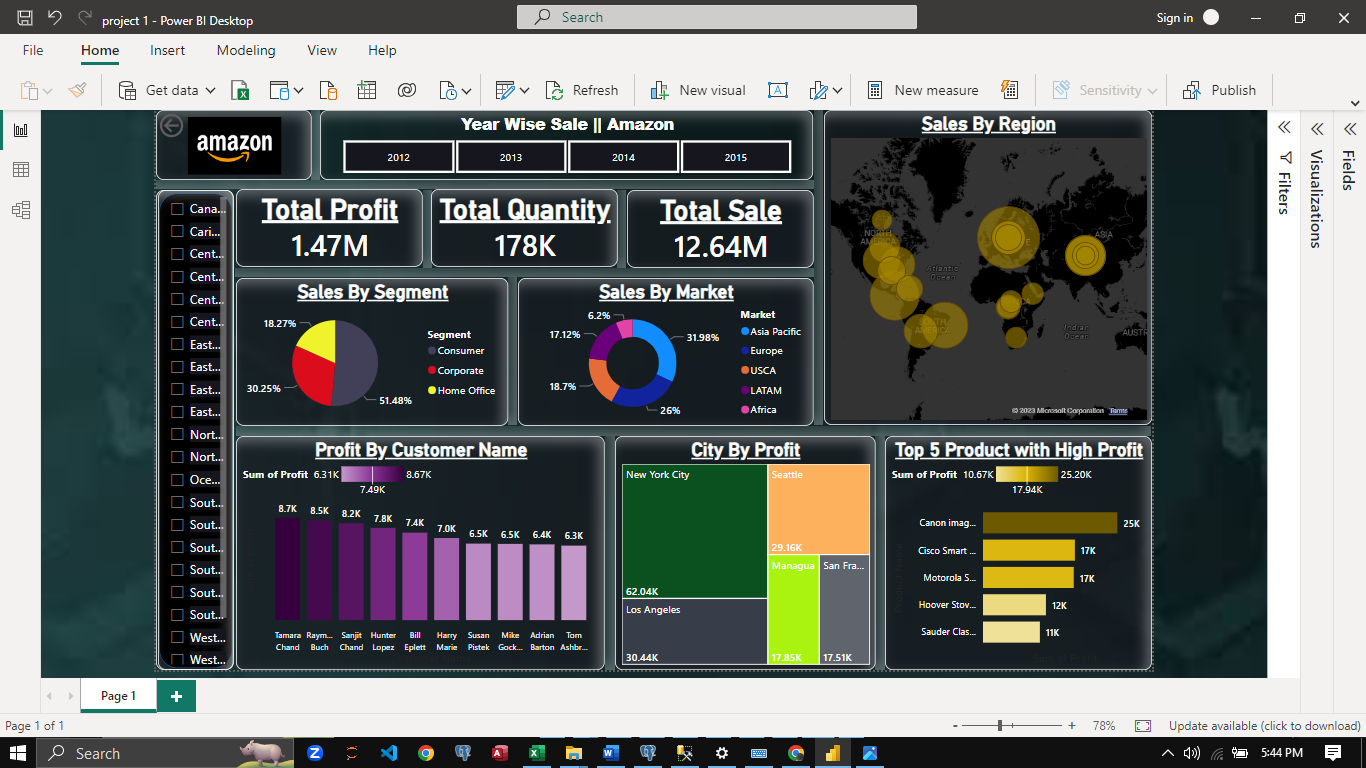

The page's visual inventory and layout, read from the dashboard file:
{"tool":"powerbi","page":{"name":"Page 1","canvas":[1280,720],"ordinal":0},"visuals":[{"type":"slicer","title":"Year Wise Sale || Amazon","fields":{"Values":["Orders.year1"]},"box":[211.4,0,634.1,90],"z":0},{"type":"image","box":[0,0,199.5,90],"z":1000},{"type":"actionButton","box":[0,0,100,40],"z":2000},{"type":"card","title":"Total Sale","fields":{"Values":["Orders.Sales"]},"box":[605.6,103.1,240,100.2],"z":3000},{"type":"card","title":"Total Profit","fields":{"Values":["Orders.Profit"]},"box":[103.1,101.6,240,100.2],"z":4000},{"type":"card","title":"Total Quantity","fields":{"Values":["Orders.Quantity"]},"box":[352.9,101.6,240,100.2],"z":5000},{"type":"shape","box":[199.5,0,11.8,90],"z":6000},{"type":"shape","box":[0,90.4,845.6,12],"z":7000},{"type":"shape","box":[592.9,103.1,12,100],"z":8000},{"type":"shape","box":[343.1,103.1,12,100],"z":9000},{"type":"shape","box":[101.6,203.3,745.4,12],"z":10000},{"type":"shape","box":[453.2,214.6,12,190],"z":11000},{"type":"pieChart","title":"Sales By Segment","fields":{"Y":["Orders.Sales"],"Series":["Orders.Segment"]},"box":[103.1,216,350.1,190],"z":12000},{"type":"donutChart","title":"Sales By Market","fields":{"Y":["Orders.Sales"],"Category":["Orders.Market"]},"box":[465.9,216,379.8,190],"z":13000},{"type":"shape","box":[103.1,406.6,1177,12.7],"z":14000},{"type":"shape","box":[845.6,0,12,405.2],"z":15000},{"type":"columnChart","title":"Profit By Customer Name","fields":{"Category":["Orders.Customer Name"],"Y":["Orders.Profit"]},"box":[103.1,419.3,474.4,300.7],"z":16000},{"type":"shape","box":[577.4,419.3,12.7,300.7],"z":17000},{"type":"treemap","title":"City By Profit","fields":{"Group":["Orders.City"],"Values":["Orders.Profit"]},"box":[590.1,419.3,334.6,300.7],"z":18000},{"type":"shape","box":[924.7,419.3,12.7,300.7],"z":19000},{"type":"clusteredBarChart","title":"Top 5 Product with High Profit","fields":{"Category":["Orders.Product Name"],"Y":["Orders.Profit"]},"box":[937.4,419.3,343.1,300.7],"z":20000},{"type":"map","title":"Sales By Region","fields":{"Size":["Orders.Sales"],"Category":["Orders.Region"]},"box":[858.4,0,422.1,405.2],"z":21000},{"type":"shape","box":[0,103.1,100.2,616.9],"z":22000}]}

Visuals, with their boxes on the page's 1280x720 design canvas (x1, y1, x2, y2). These are canvas units, not pixel positions in the 1366x768 screenshot, which may show the page scaled, cropped or inside an application window:
"Year Wise Sale || Amazon" slicer: {"x1": 211, "y1": 0, "x2": 846, "y2": 90}
image: {"x1": 0, "y1": 0, "x2": 200, "y2": 90}
actionButton: {"x1": 0, "y1": 0, "x2": 100, "y2": 40}
"Total Sale" card: {"x1": 606, "y1": 103, "x2": 846, "y2": 203}
"Total Profit" card: {"x1": 103, "y1": 102, "x2": 343, "y2": 202}
"Total Quantity" card: {"x1": 353, "y1": 102, "x2": 593, "y2": 202}
shape: {"x1": 200, "y1": 0, "x2": 211, "y2": 90}
shape: {"x1": 0, "y1": 90, "x2": 846, "y2": 102}
shape: {"x1": 593, "y1": 103, "x2": 605, "y2": 203}
shape: {"x1": 343, "y1": 103, "x2": 355, "y2": 203}
shape: {"x1": 102, "y1": 203, "x2": 847, "y2": 215}
shape: {"x1": 453, "y1": 215, "x2": 465, "y2": 405}
"Sales By Segment" pieChart: {"x1": 103, "y1": 216, "x2": 453, "y2": 406}
"Sales By Market" donutChart: {"x1": 466, "y1": 216, "x2": 846, "y2": 406}
shape: {"x1": 103, "y1": 407, "x2": 1280, "y2": 419}
shape: {"x1": 846, "y1": 0, "x2": 858, "y2": 405}
"Profit By Customer Name" columnChart: {"x1": 103, "y1": 419, "x2": 578, "y2": 720}
shape: {"x1": 577, "y1": 419, "x2": 590, "y2": 720}
"City By Profit" treemap: {"x1": 590, "y1": 419, "x2": 925, "y2": 720}
shape: {"x1": 925, "y1": 419, "x2": 937, "y2": 720}
"Top 5 Product with High Profit" clusteredBarChart: {"x1": 937, "y1": 419, "x2": 1280, "y2": 720}
"Sales By Region" map: {"x1": 858, "y1": 0, "x2": 1280, "y2": 405}
shape: {"x1": 0, "y1": 103, "x2": 100, "y2": 720}
